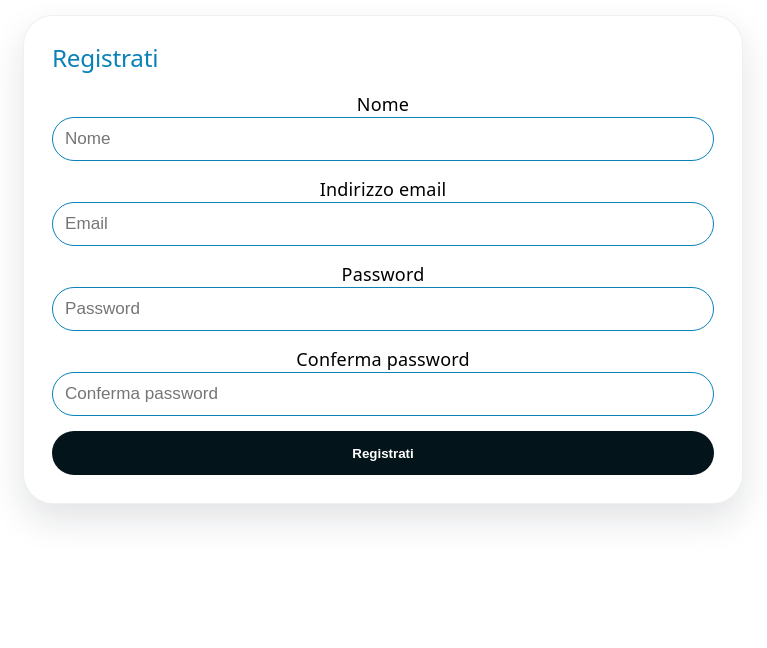
Test: RegitrationForm inserimento dati non validi › Email non valida
The image size is (767, 648).
Type "email_non_valida" into the field labelled "Indirizzo email" at [383, 224], box [52,202,714,246]
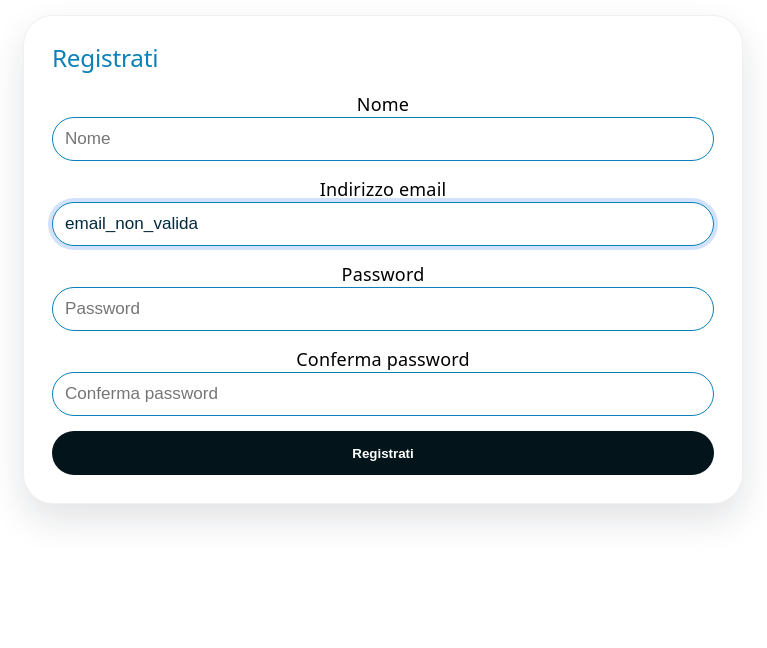
Click the button "Registrati" at [383, 453], box [52,431,714,475]
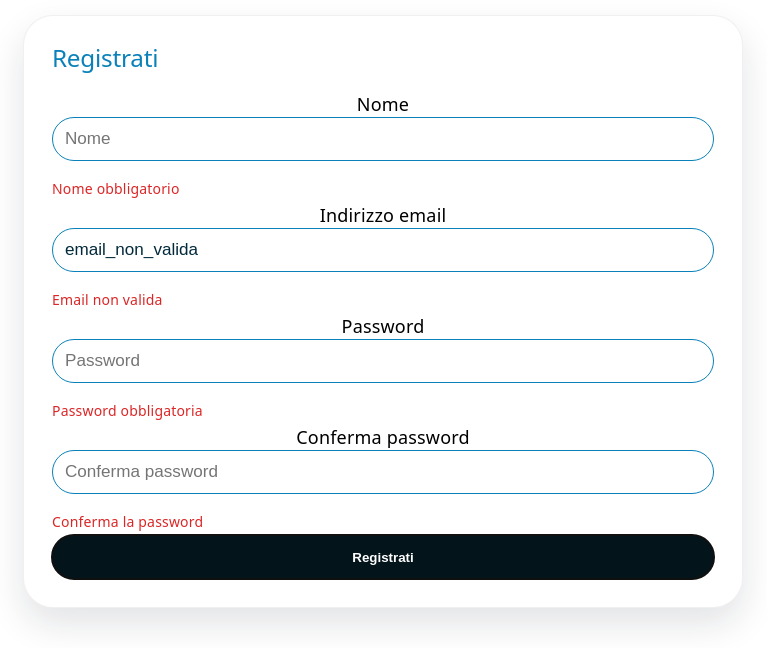
Expected: the text "Email non valida" is shown, [52,290,162,309]
